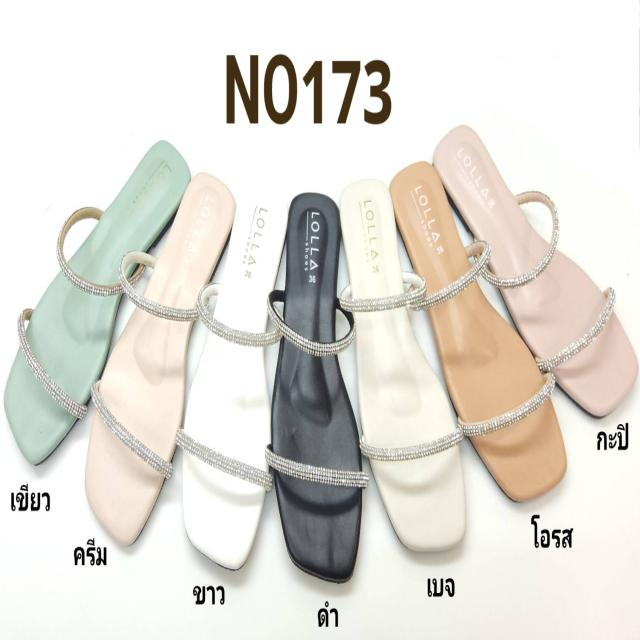bej: (340, 183, 468, 557)
black: (267, 189, 371, 586)
cream: (86, 178, 233, 537)
green: (5, 136, 192, 464)
kapi: (435, 122, 638, 413)
orot: (388, 159, 566, 497)
white: (180, 183, 278, 568)
